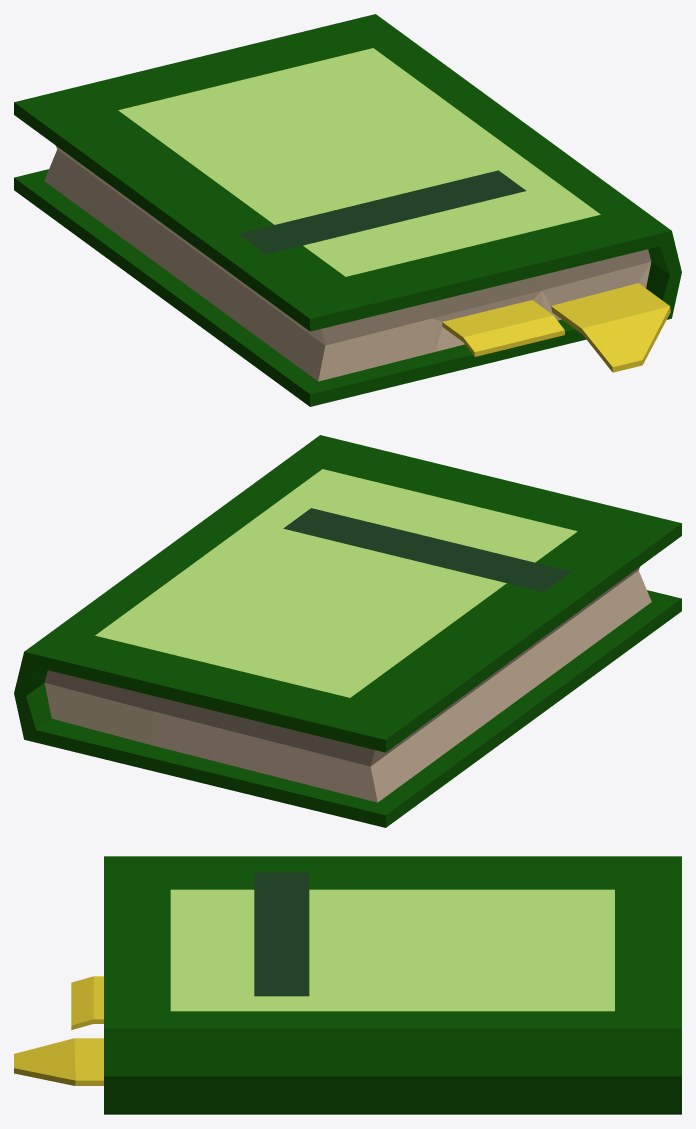
The model's file is SM_Book_03.fbx.
3 views of the same model, one above another, from view 1: azimuth 30°, elevation 25°; view 2: azimuth 150°, elevation 25°; view 3: azimuth 270°, elevation 25° (orthographic). The views are drawn at different scales.
Parts seen in each view (by area): view 1: SM_Book_03; view 2: SM_Book_03; view 3: SM_Book_03.
Part boxes in pixels (x1,y1,x2,y2): SM_Book_03: (14,14,681,406); SM_Book_03: (14,435,681,827); SM_Book_03: (14,856,681,1114).
Size of the model in its own units: 103 by 23.23 by 164.
